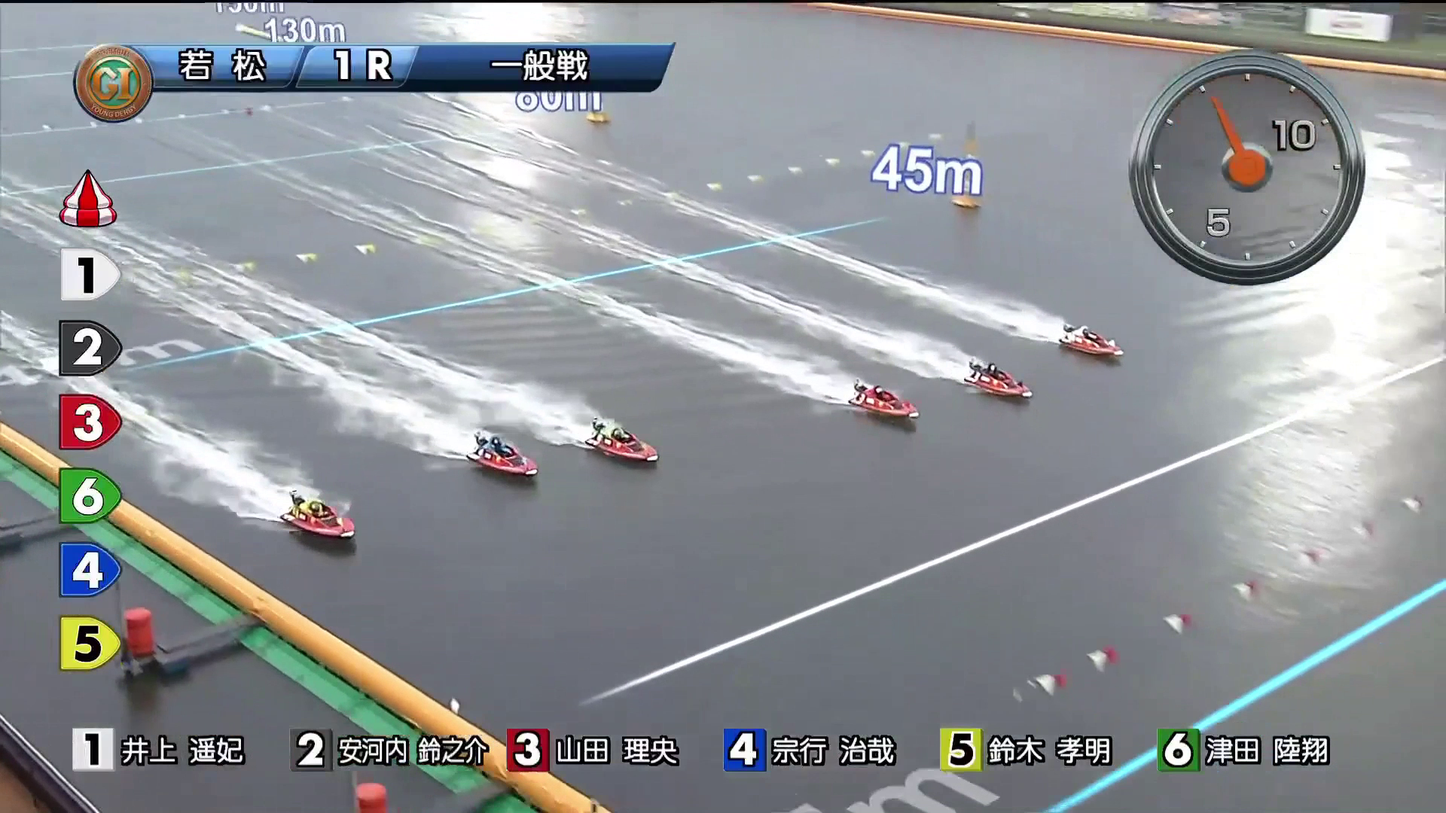１号艇: (1053, 315, 1114, 361)
２号艇: (965, 357, 1027, 395)
３号艇: (853, 378, 908, 419)
４号艇: (594, 420, 657, 463)
５号艇: (471, 444, 540, 482)
６号艇: (299, 509, 364, 556)
